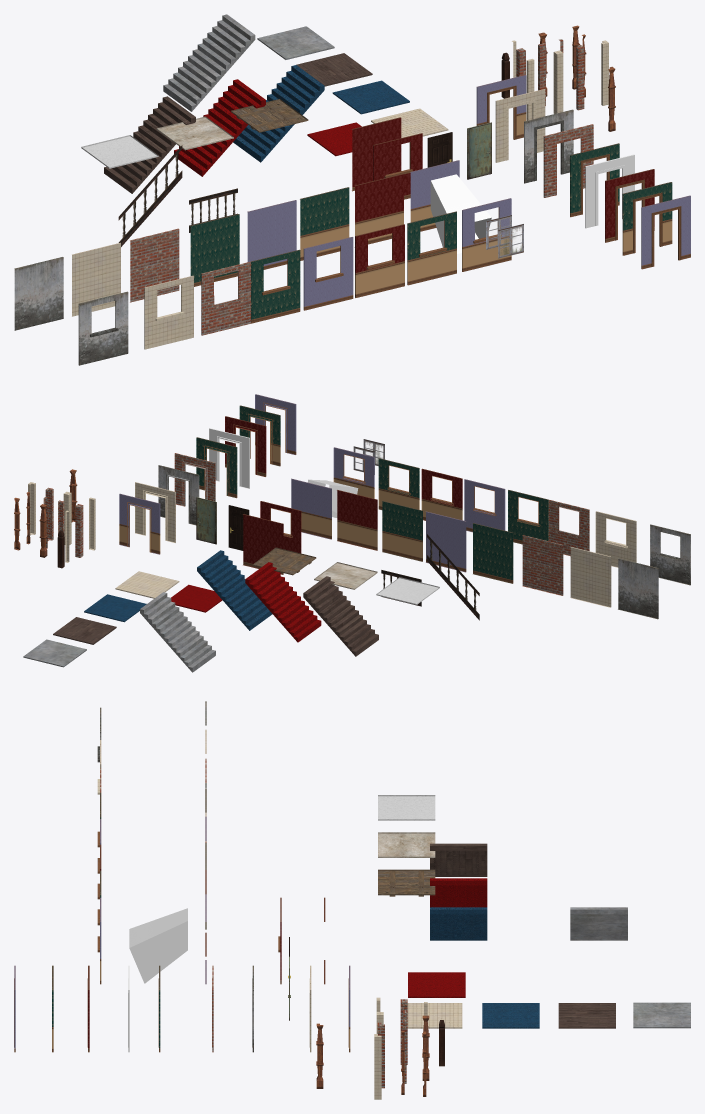
Rendered from Walls.glb.
3 renders of one model, top to bottom at view 1: azimuth 30°, elevation 25°; view 2: azimuth 150°, elevation 25°; view 3: azimuth 270°, elevation 25°, orthographic. The views are drawn at different scales.
Visible parts, largest first — view 1: stairs2, wall_8, wall_6, wall_5, stairs1, wall_2, wall_7, stairs0, wall_3, stairs3, wall_1, window_wall8 (+35 smaller); view 2: stairs2, stairs0, stairs1, stairs3, wall_6, wall_7, wall_8, wall_5, wall_2, wall_1, wall_3, wall_0 (+32 smaller); view 3: window_ray, stairs3, stairs2, stairs1, stairs0, floor3, cieling1, floor4, floor1, floor0, cieling0, cieling2 (+1 smaller).
Boxes of the visible parts, x1,y1,x2,y2 form: stairs2: (163,14,255,111); wall_8: (14,257,63,330); wall_6: (130,228,179,302); wall_5: (190,214,239,286); stairs1: (104,96,195,193); wall_2: (300,187,349,260); wall_7: (72,242,120,316); stairs0: (174,79,265,176); wall_3: (247,200,296,269); stairs3: (233,65,324,162); wall_1: (354,173,403,247); window_wall8: (78,291,128,365); stairs2: (140,592,215,672); stairs0: (245,562,321,642); stairs1: (303,576,378,656); stairs3: (197,550,272,630); wall_6: (522,535,563,595); wall_7: (570,547,611,607); wall_8: (618,558,658,619); wall_5: (473,523,513,583); wall_2: (382,501,422,561); wall_1: (337,490,377,550); wall_3: (425,511,466,572); wall_0: (291,478,331,539); window_ray: (129,908,187,983); stairs3: (430,907,487,940); stairs2: (570,907,627,940); stairs1: (430,843,487,876); stairs0: (430,878,487,907); floor3: (633,1002,690,1028); cieling1: (378,869,435,896); floor4: (482,1003,539,1028); floor1: (558,1003,615,1028); floor0: (408,972,465,997); cieling0: (378,795,435,820); cieling2: (378,832,435,857).
Bounding box in the file's own units: 27.64 × 3.58 × 23.54.
59 materials, 58 textured.
